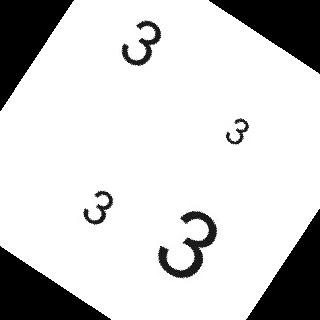three: (152, 207, 225, 280), (116, 18, 167, 69), (79, 189, 117, 227), (221, 116, 252, 147)
